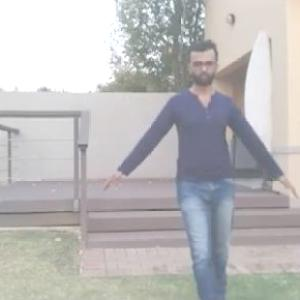land: (114, 39, 292, 292)
